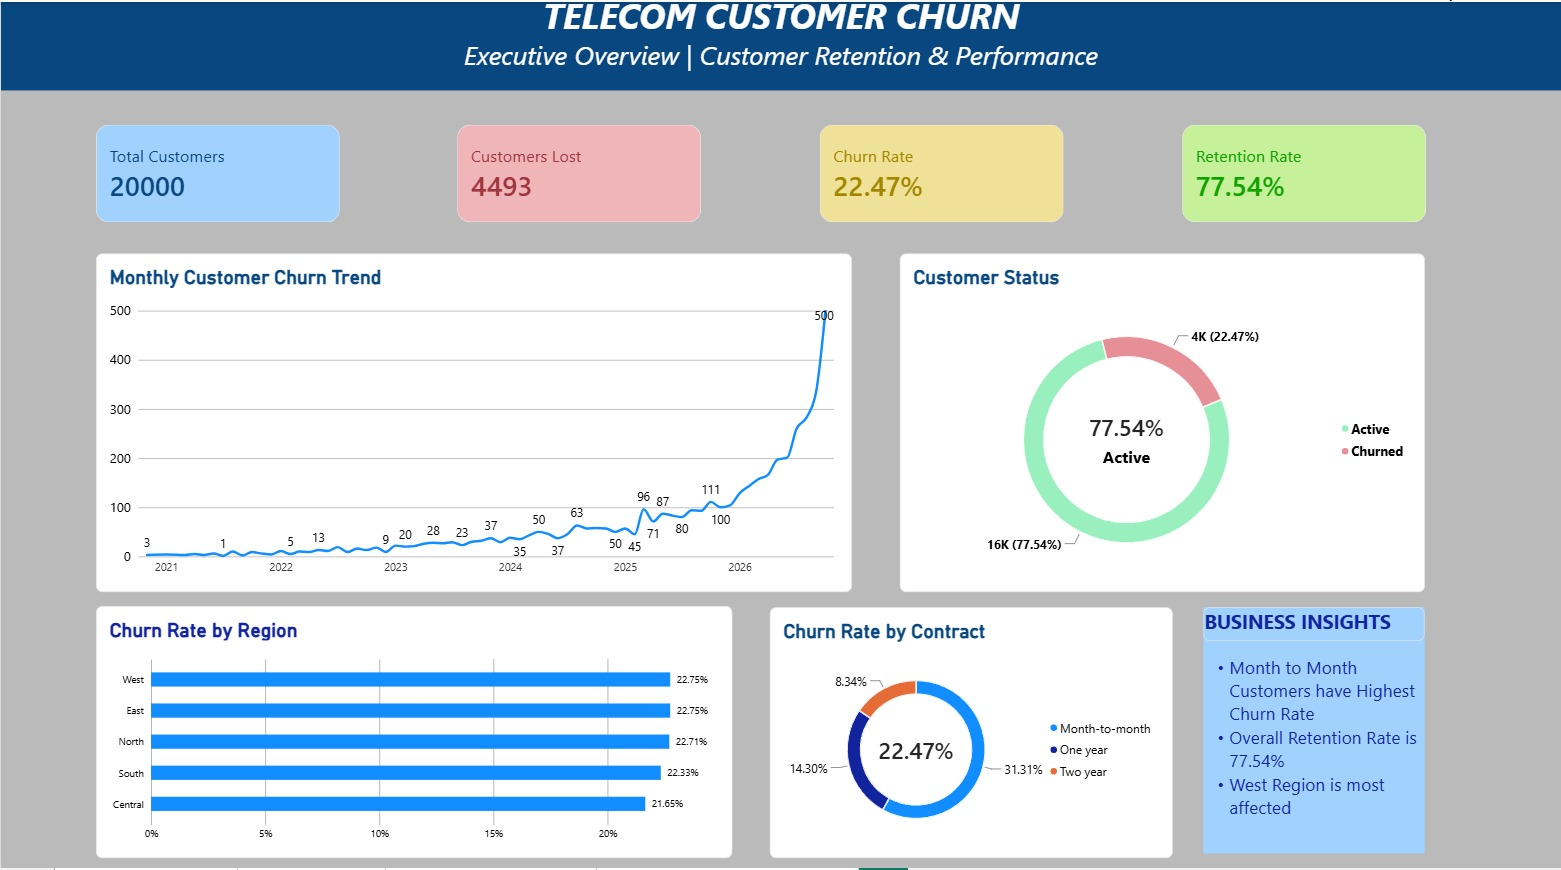

The page's visual inventory and layout, read from the dashboard file:
{"tool":"powerbi","page":{"name":"Executive Overview","canvas":[1920,1080],"ordinal":0},"visuals":[{"type":"textbox","box":[0,0,1920,122],"z":0},{"type":"textbox","box":[1480.6,758.6,272.3,41.2],"z":0,"group":"g2"},{"type":"cardVisual","fields":{"Data":["DAX Measures.Total Customers"]},"box":[116.7,165,300,120],"z":1000},{"type":"textbox","box":[1481.2,799.2,272.9,262.9],"z":1000,"group":"g2"},{"type":"cardVisual","fields":{"Data":["DAX Measures.Churned Customers"]},"box":[562.2,165,300,120],"z":2000},{"type":"cardVisual","fields":{"Data":["DAX Measures.Churn Rate %"]},"box":[1007.8,165,300,120],"z":3000},{"type":"cardVisual","fields":{"Data":["DAX Measures.Retention Rate %"]},"box":[1453.3,165,300,120],"z":4000},{"type":"lineChart","title":"Monthly Customer Churn Trend","fields":{"Category":["DimDate.Date.Variation.Date Hierarchy.Year","DimDate.Date.Variation.Date Hierarchy.Month"],"Y":["DAX Measures.Churned customers by churn date"]},"box":[116.7,323.3,930,416.7],"z":5000},{"type":"donutChart","title":"Customer Status","fields":{"Category":["Customer Churn Analysis Dataset.Customer Status"],"Y":["DAX Measures.Total Customers"]},"box":[1106.7,323.3,646.7,416.7],"z":6000},{"type":"donutChart","title":"Churn Rate by Contract","fields":{"Category":["Dim Contract.Contract"],"Y":["DAX Measures.Churn Rate %"]},"box":[945.7,758.6,495.7,308.6],"z":7000},{"type":"shape","box":[1480.6,758.6,272.3,302.9],"z":8000,"group":"g1"},{"type":"clusteredBarChart","title":"Churn Rate  by Region","fields":{"Category":["Dim Region.Region"],"Y":["DAX Measures.Churn Rate %"]},"box":[117.1,757.1,782.9,310],"z":9000},{"type":"group","id":"g1","title":"Group 1","box":[1480.6,758.6,273.5,303.5],"z":10001},{"type":"group","id":"g2","title":"Group 2","box":[1480.6,758.6,273.5,303.5],"z":10002,"group":"g1"}]}

Visuals, with their boxes in screenshot pixels (x1, y1, x2, y2), scaled from the page's 1920x1080 canvas onto the 1561x870 screenshot:
textbox: (left=0, top=0, right=1560, bottom=98)
textbox: (left=1204, top=611, right=1425, bottom=644)
cardVisual - DAX Measures.Total Customers: (left=95, top=133, right=339, bottom=230)
textbox: (left=1204, top=644, right=1426, bottom=856)
cardVisual - DAX Measures.Churned Customers: (left=457, top=133, right=701, bottom=230)
cardVisual - DAX Measures.Churn Rate %: (left=819, top=133, right=1063, bottom=230)
cardVisual - DAX Measures.Retention Rate %: (left=1182, top=133, right=1425, bottom=230)
"Monthly Customer Churn Trend" lineChart: (left=95, top=260, right=851, bottom=596)
"Customer Status" donutChart: (left=900, top=260, right=1426, bottom=596)
"Churn Rate by Contract" donutChart: (left=769, top=611, right=1172, bottom=860)
shape: (left=1204, top=611, right=1425, bottom=855)
"Churn Rate  by Region" clusteredBarChart: (left=95, top=610, right=732, bottom=860)
"Group 1" group: (left=1204, top=611, right=1426, bottom=856)
"Group 2" group: (left=1204, top=611, right=1426, bottom=856)
